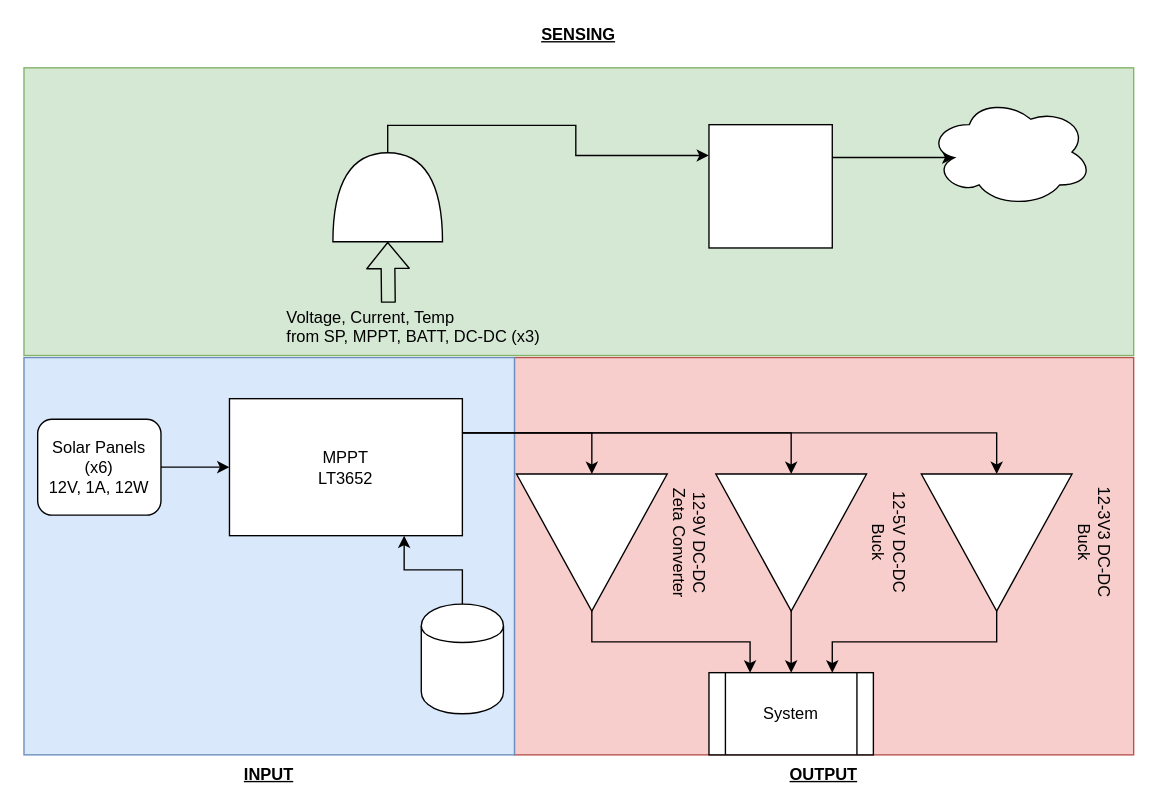
Some shapes in this 1158 by 807 pixel diagram are drawn without their labels. Here are the shapes that lost their labels. From the top down, the centre of each, then its label:
At (x=1010, y=151): "User Interface GUI".
At (x=387, y=196): "16-Channel MUX CD74HC4067".
At (x=770, y=185): "System Monitor (Arduino Nano)".
At (x=461, y=658): "LiPo Battery 7.4V".
